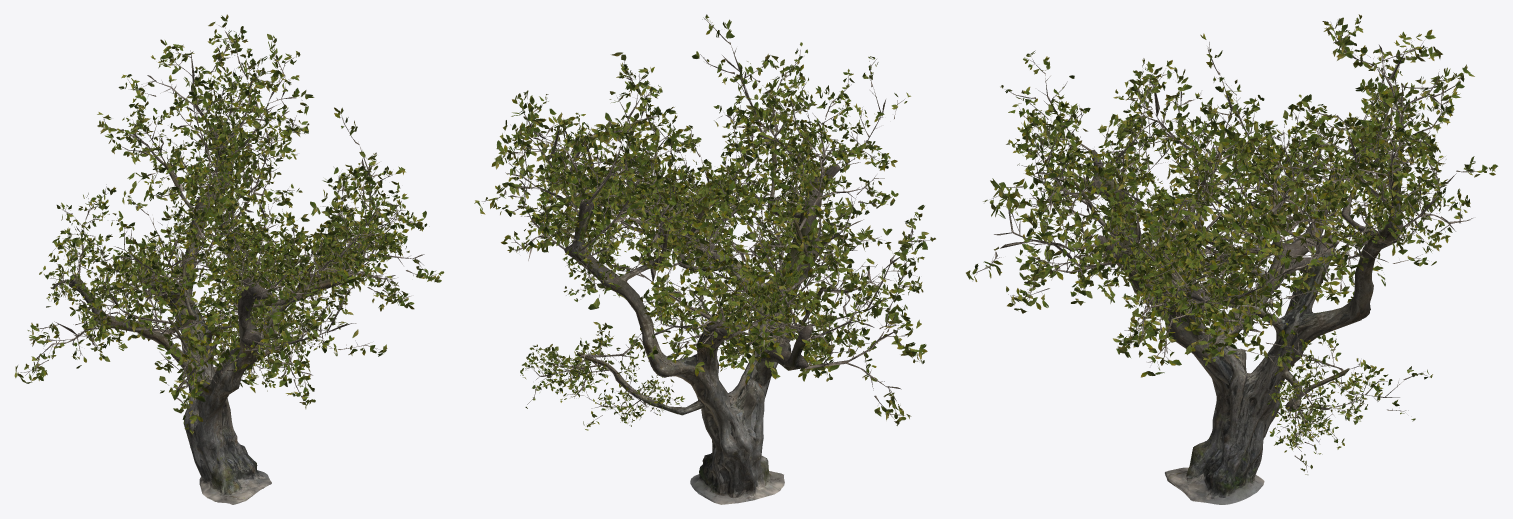
The model's file is forest-canopy.glb.
The picture shows the model from 3 angles, left to right: view 1: azimuth 30°, elevation 25°; view 2: azimuth 150°, elevation 25°; view 3: azimuth 270°, elevation 25°; orthographic projection. The views are drawn at different scales.
Parts seen in each view (by area): view 1: LOD0_2, LOD1_2, LOD0_0, LOD0_1, LOD1_1; view 2: LOD0_2, LOD1_2, LOD0_0, LOD0_1, LOD1_1; view 3: LOD0_2, LOD1_2, LOD0_0, LOD0_1, LOD1_1.
Part boxes in pixels (x1,y1,x2,y2): LOD0_2: (14,14,444,434); LOD1_2: (14,15,439,434); LOD0_0: (20,25,438,423); LOD0_1: (69,132,368,504); LOD1_1: (69,130,359,504); LOD0_2: (474,16,935,430); LOD1_2: (475,14,933,425); LOD0_0: (482,17,929,425); LOD0_1: (564,138,839,504); LOD1_1: (565,143,838,504); LOD0_2: (966,15,1496,474); LOD1_2: (966,14,1497,446); LOD0_0: (974,23,1491,472); LOD0_1: (1074,143,1403,504); LOD1_1: (1076,143,1403,504).
Size of the model in its own units: 13.3 by 13.83 by 13.44.
3 materials, 3 textured.
